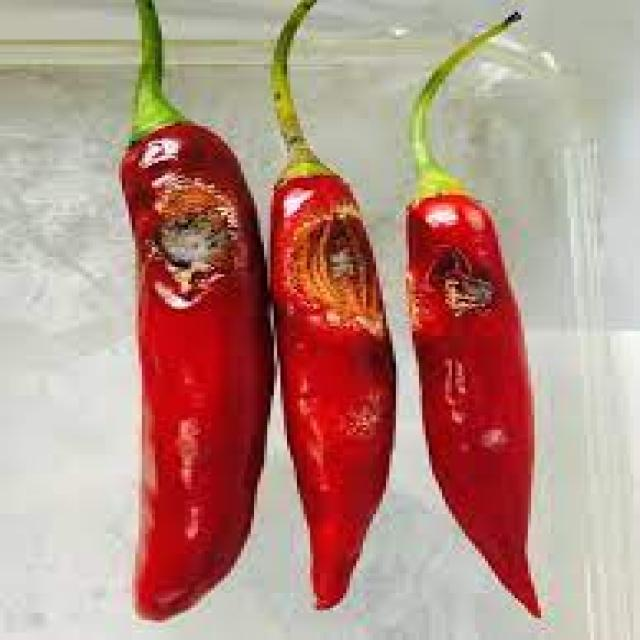Moko: (127, 128, 257, 350), (280, 190, 398, 343), (417, 225, 529, 344)
